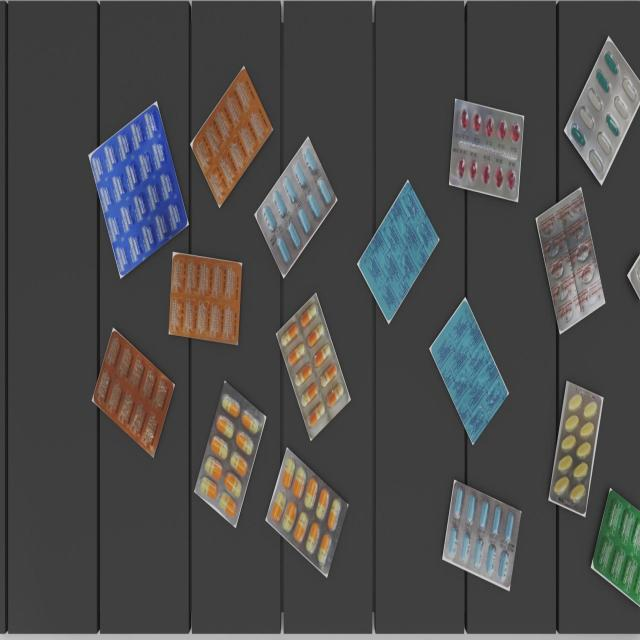blister: (83, 97, 193, 284), (186, 57, 274, 212), (252, 136, 338, 281), (358, 179, 438, 323), (564, 31, 640, 182), (432, 297, 508, 444), (277, 294, 349, 442), (266, 447, 347, 575), (94, 327, 173, 454), (195, 382, 264, 527), (536, 188, 605, 332), (443, 479, 522, 589), (166, 246, 246, 351), (450, 97, 524, 204), (550, 380, 603, 514), (592, 481, 639, 608)
